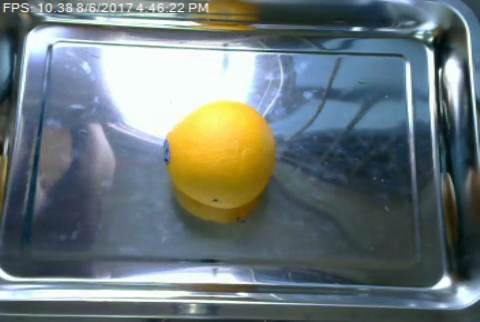Orange: (164, 102, 274, 207)
